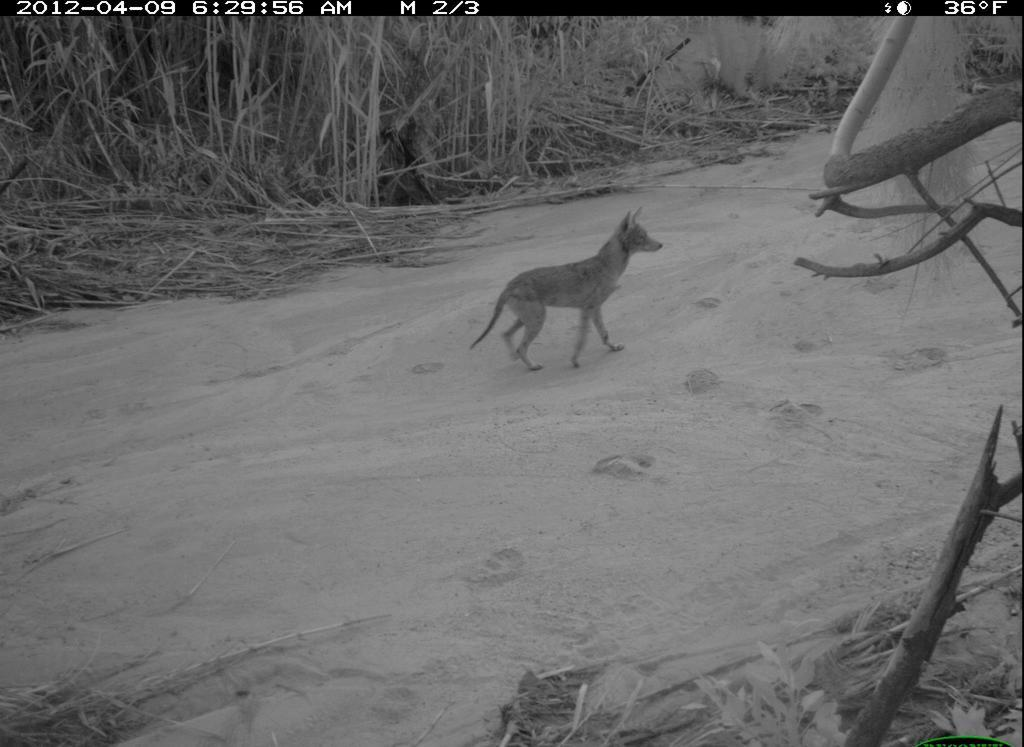coyote: (468, 204, 666, 376)
